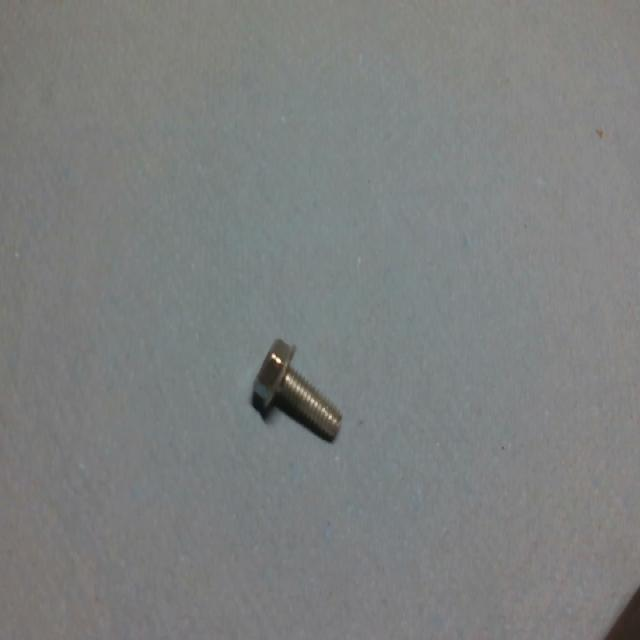Bolt: (251, 339, 342, 440)
